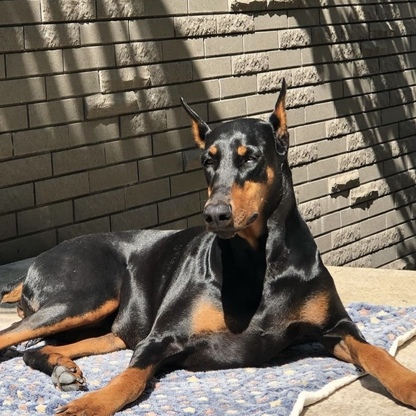doberman: (19, 93, 416, 404)
